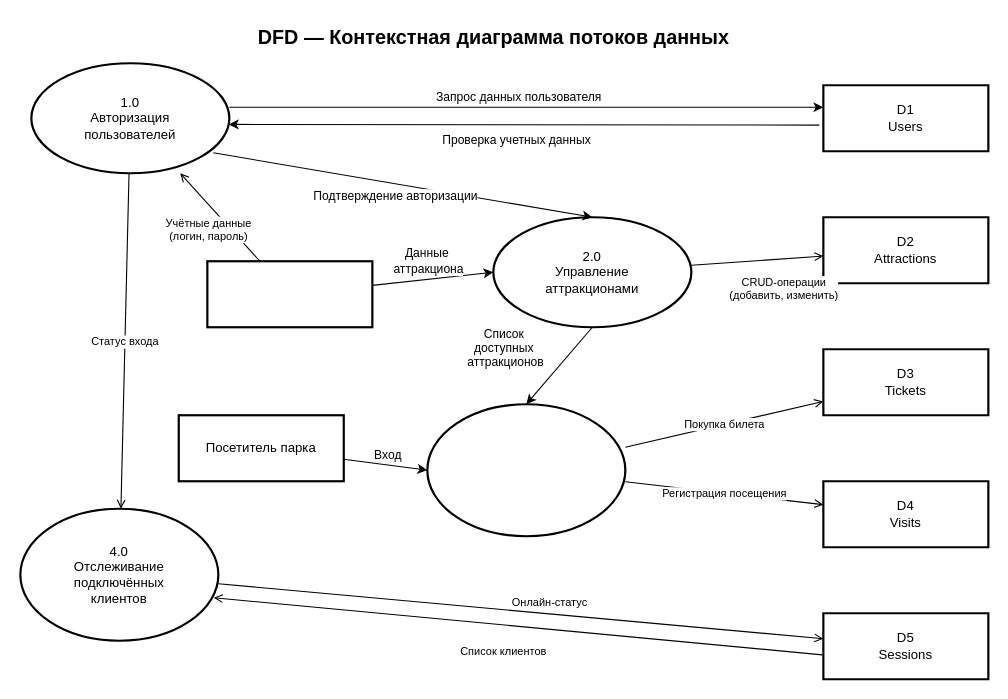
This 1008x699 diagram has some shape labels left out. The centre of each missing label's shape, as x and y in pixels:
"3.0 Продажа билетов и регистрация посещений" belongs at point 526,470.
"Администратор" belongs at point 289,294.
